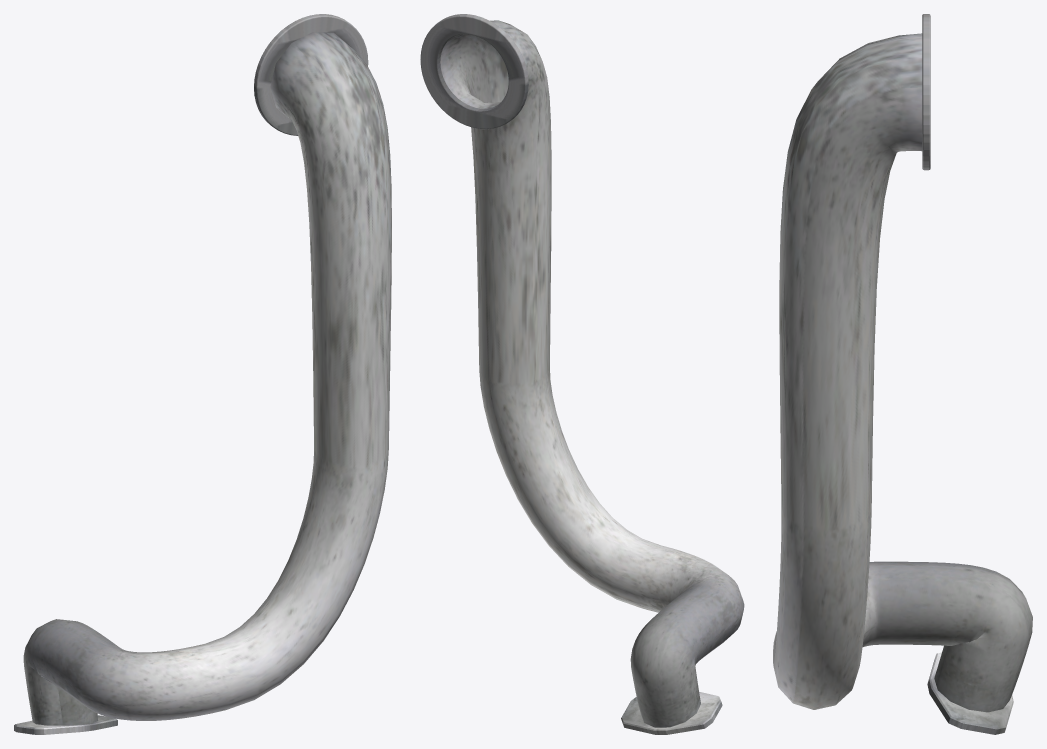
File: turboBig_exhaust_outlet_tube.fbx
3 renders of one model, left to right at view 1: azimuth 30°, elevation 25°; view 2: azimuth 150°, elevation 25°; view 3: azimuth 270°, elevation 25°, orthographic. The views are drawn at different scales.
Parts seen in each view (by area): view 1: turboBig_exhaust_outlet_tube; view 2: turboBig_exhaust_outlet_tube; view 3: turboBig_exhaust_outlet_tube.
Part boxes in pixels (x1,y1,x2,y2): turboBig_exhaust_outlet_tube: [14, 14, 391, 734]; turboBig_exhaust_outlet_tube: [420, 14, 744, 734]; turboBig_exhaust_outlet_tube: [773, 14, 1032, 734].
Size of the model in its own units: 28.22 by 55.86 by 15.97.
Materials: 1 (1 with a texture image).
